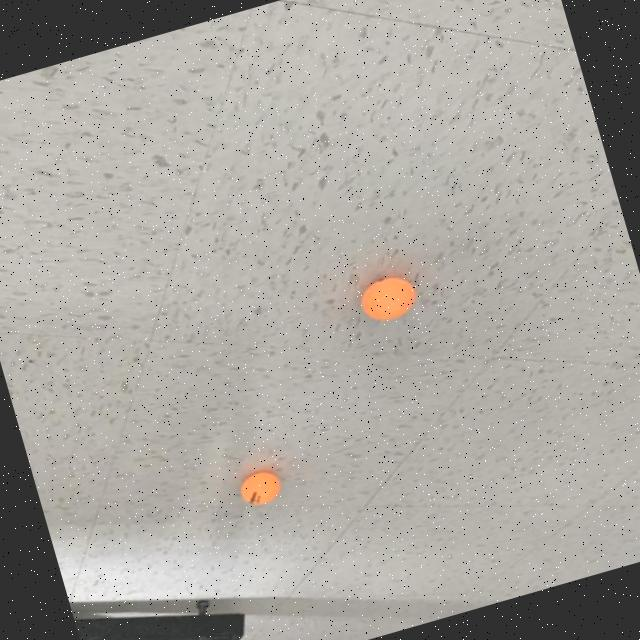ping-pong-ball: (352, 266, 424, 330), (232, 462, 286, 512)
